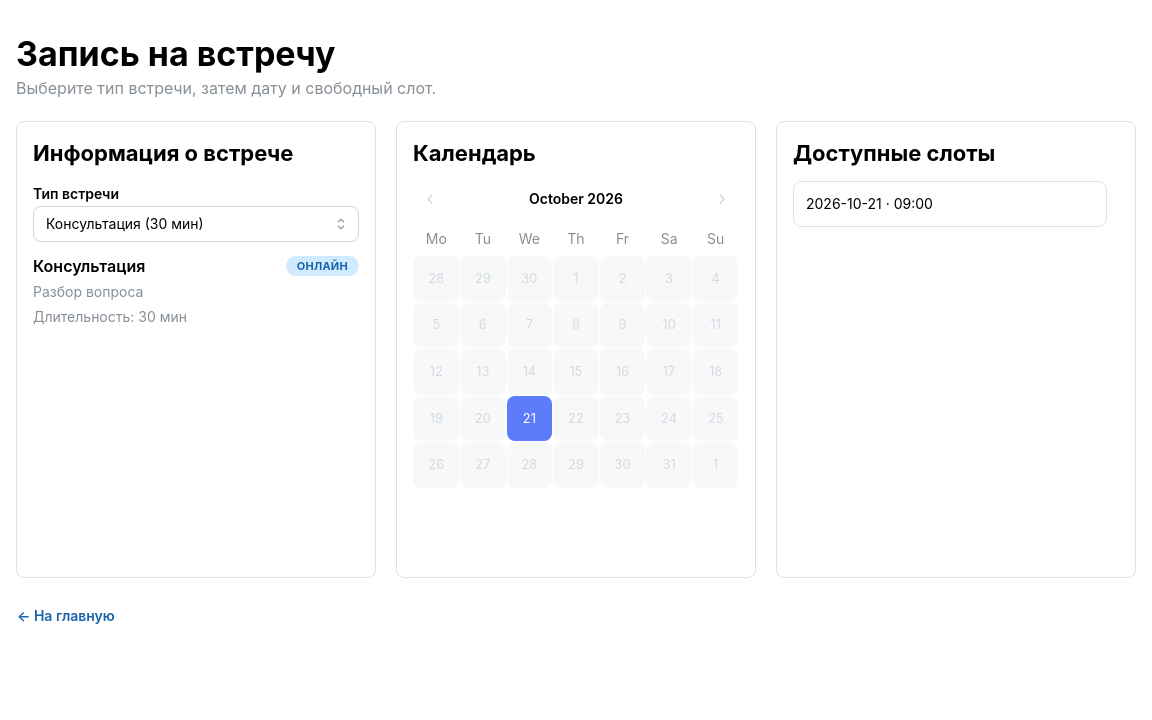
Test: Подтверждение записи › требует имя перед отправкой
This screenshot has width=1152, height=720.
Click the button "2026-10-21 · 09:00": (950, 204) top-left (793, 181), bottom-right (1107, 227)
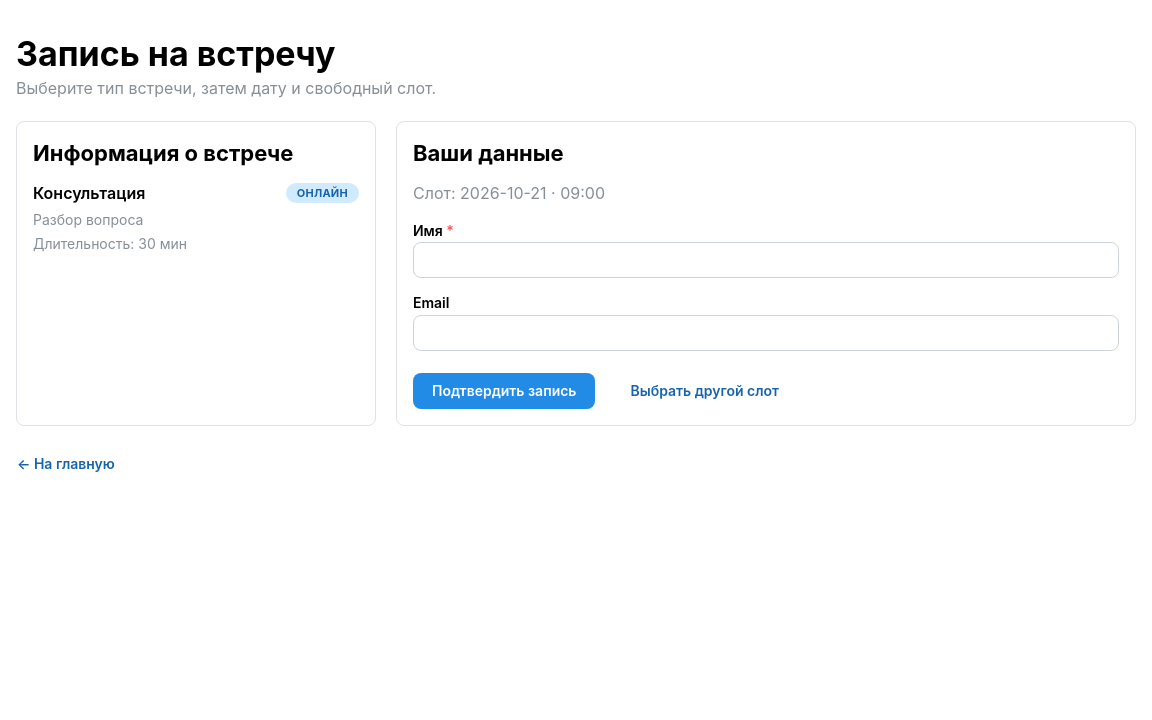
Now the heading "Ваши данные" is shown, box top-left (413, 140), bottom-right (564, 166)
Click the button "Подтвердить запись": (504, 391) top-left (413, 373), bottom-right (596, 409)
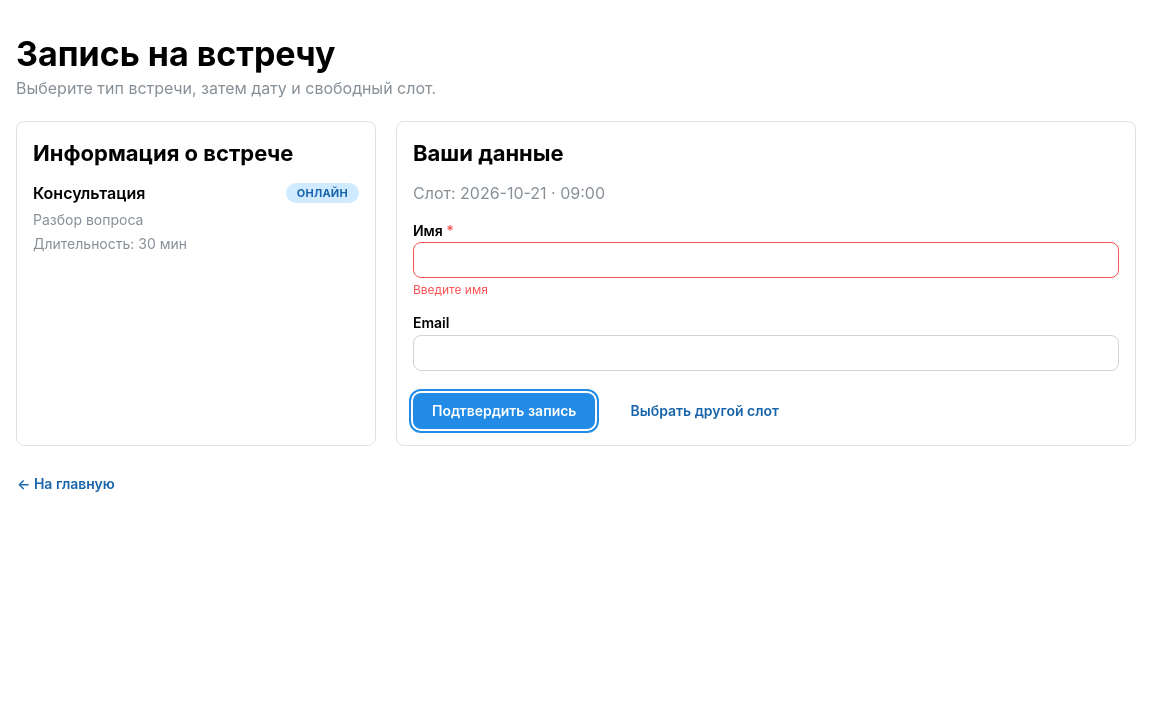
Now the text "Введите имя" is shown, box top-left (413, 282), bottom-right (488, 297)
